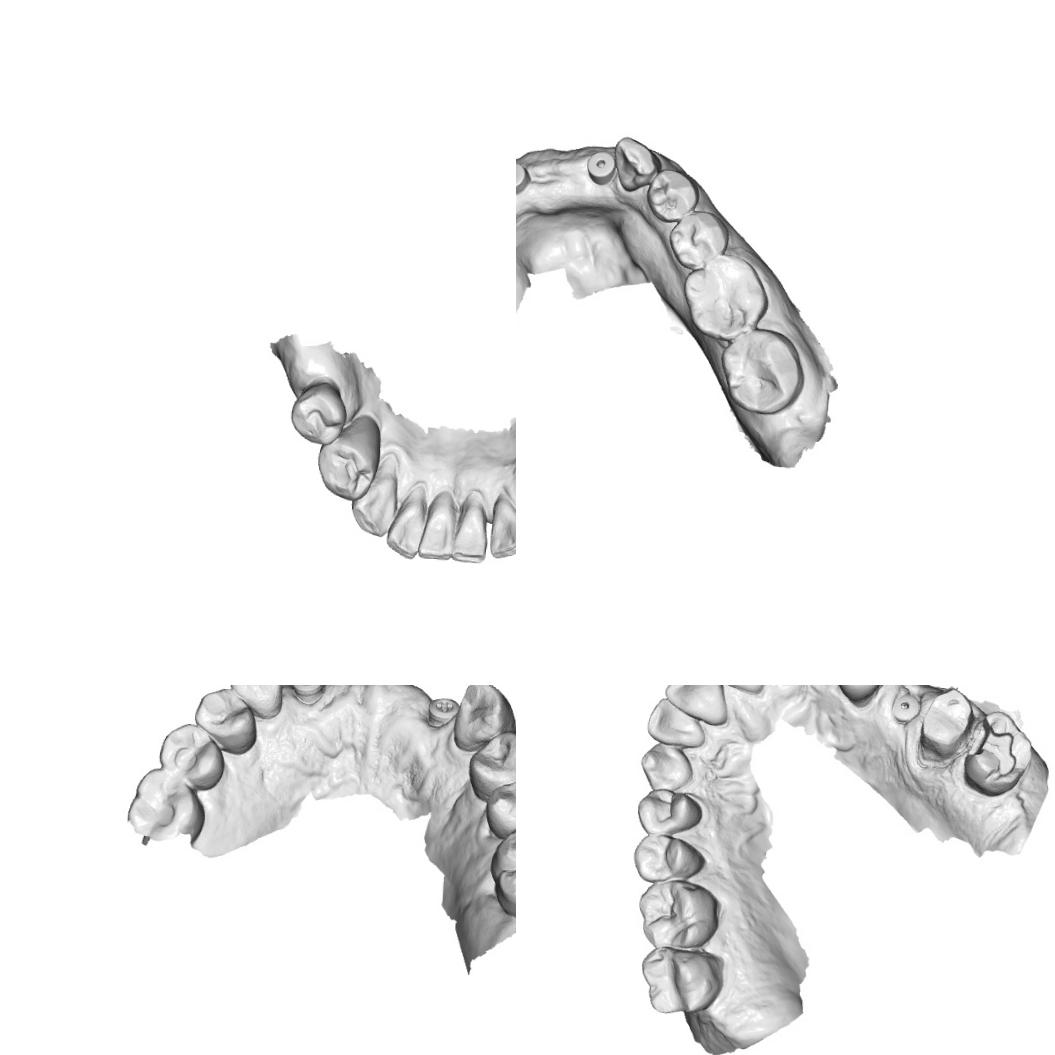canine: (608, 124, 663, 206), (450, 685, 516, 753), (348, 473, 400, 539), (638, 741, 694, 793), (226, 685, 285, 719)
crown: (914, 686, 978, 770)
implant: (579, 143, 621, 189), (890, 690, 920, 726), (516, 154, 535, 196), (288, 685, 326, 704)
implant_plus: (424, 693, 458, 730)
incisor: (644, 695, 708, 749), (450, 501, 494, 565), (662, 685, 730, 726), (416, 498, 458, 562), (382, 498, 422, 560), (485, 498, 516, 561)
inlay: (964, 713, 1018, 779)
molar: (710, 327, 807, 416), (681, 256, 774, 340), (124, 766, 208, 844), (637, 944, 723, 1018), (634, 876, 720, 950), (486, 812, 516, 919)
premolar: (664, 205, 735, 278), (190, 685, 260, 756), (156, 720, 226, 791), (313, 429, 378, 501), (630, 830, 707, 886), (286, 382, 348, 445), (466, 726, 516, 803), (634, 786, 704, 837), (642, 168, 700, 224), (482, 769, 516, 842), (834, 685, 894, 708)
